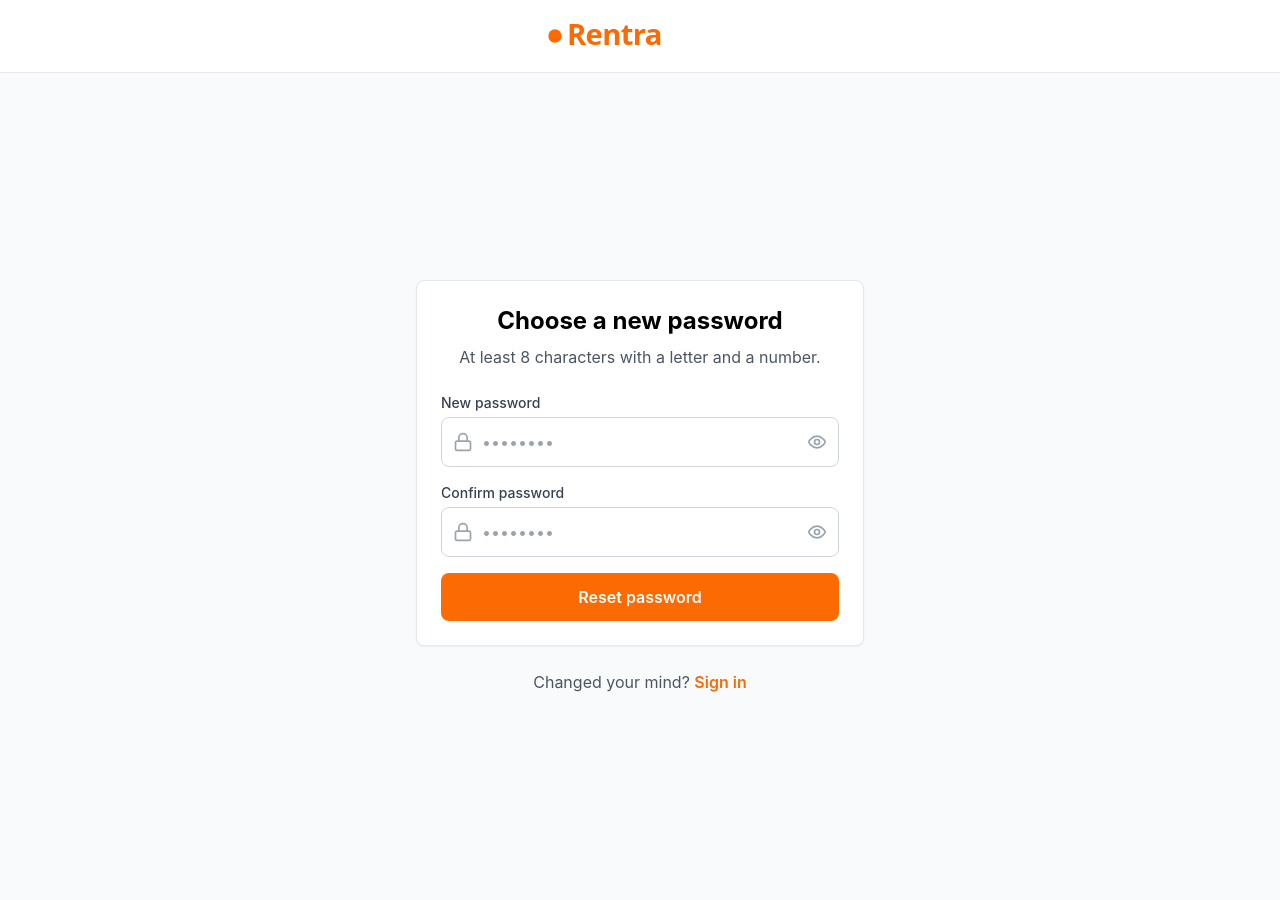
Scenario: ResetPasswordPage › resets with the token from the URL and offers sign in
In the password field labelled "New password": (640, 442) left=441, top=416, right=839, bottom=466, type "longenough1"
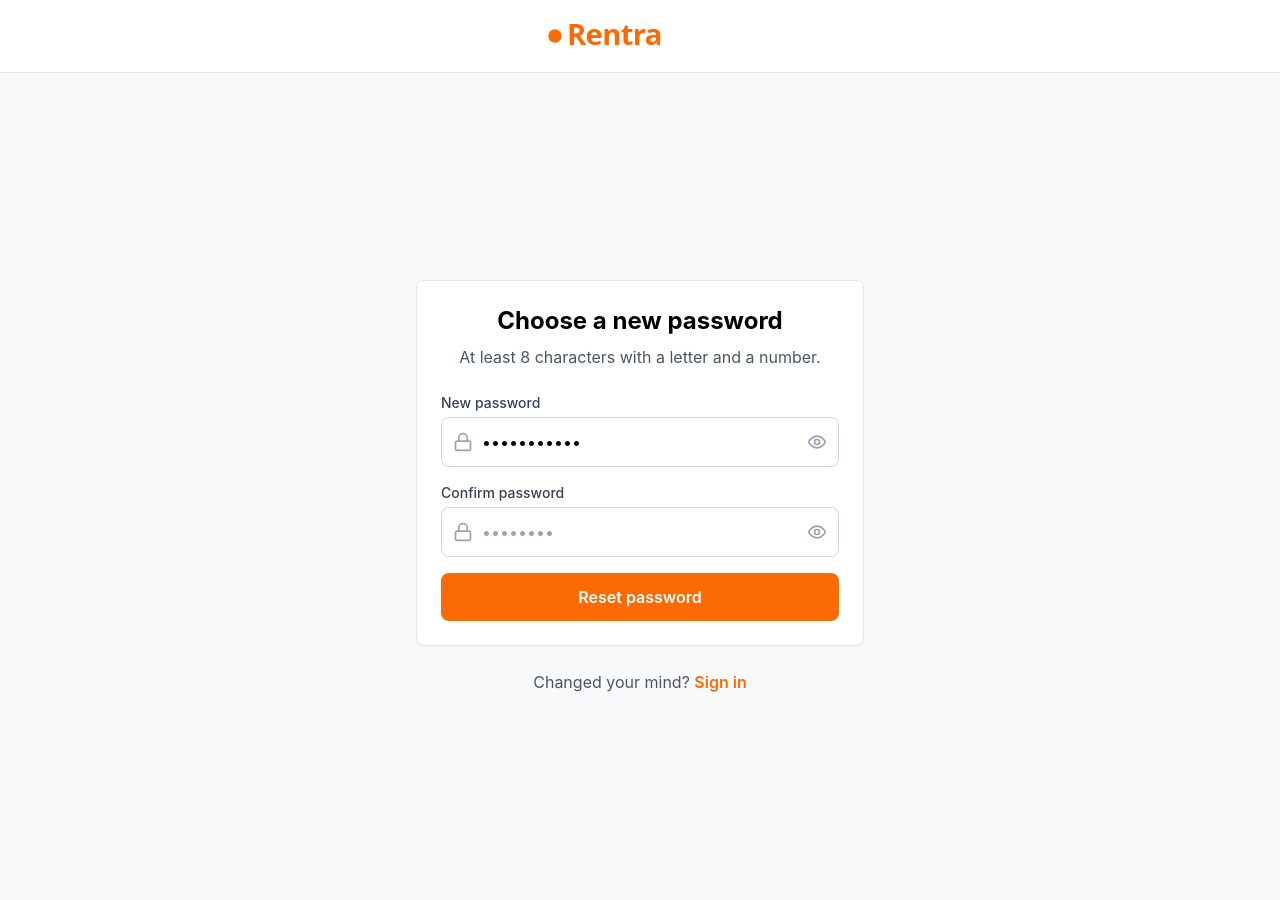
In the password field labelled "Confirm password": (640, 532) left=441, top=506, right=839, bottom=556, type "longenough1"
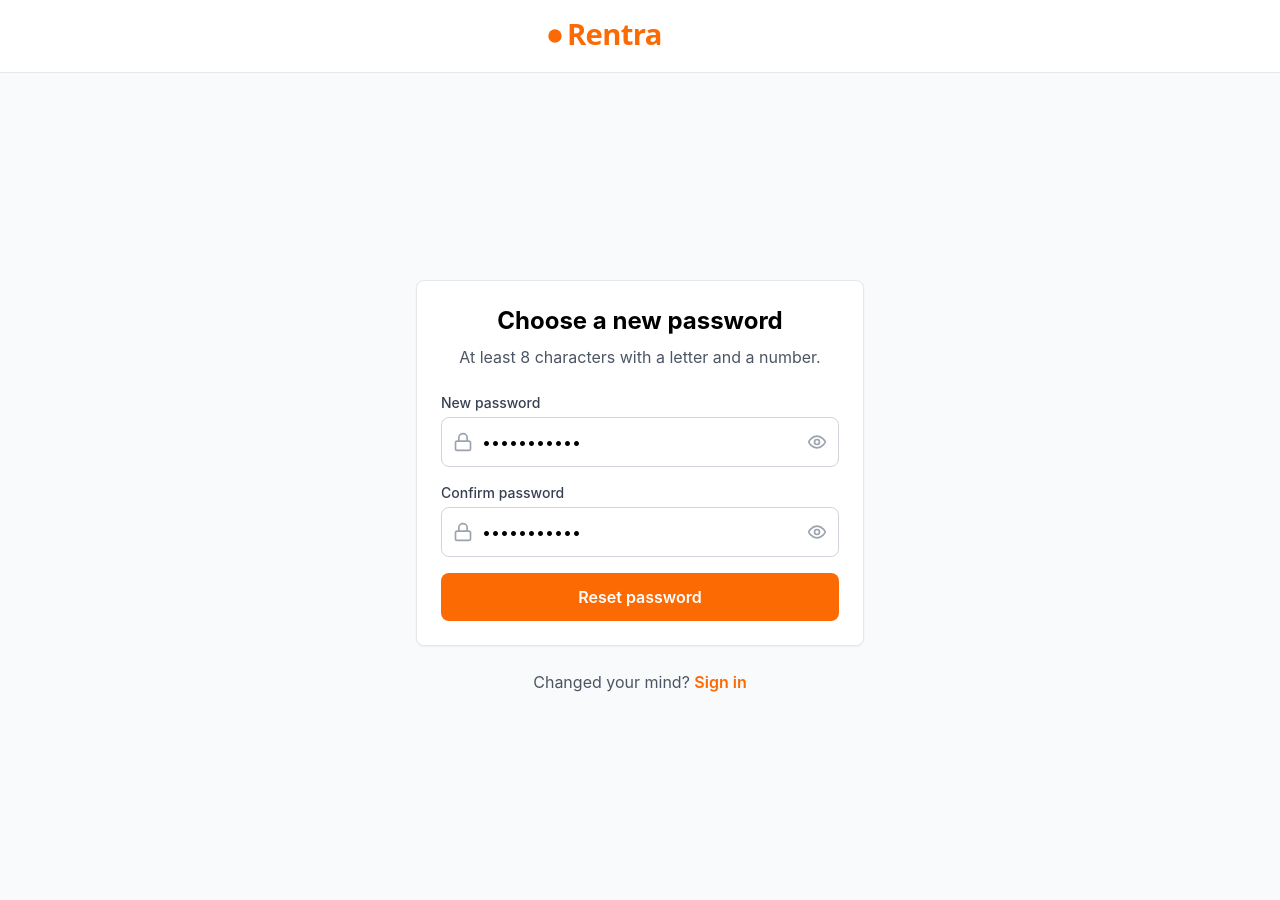
Click the button "Reset password": (640, 596) left=441, top=572, right=839, bottom=620
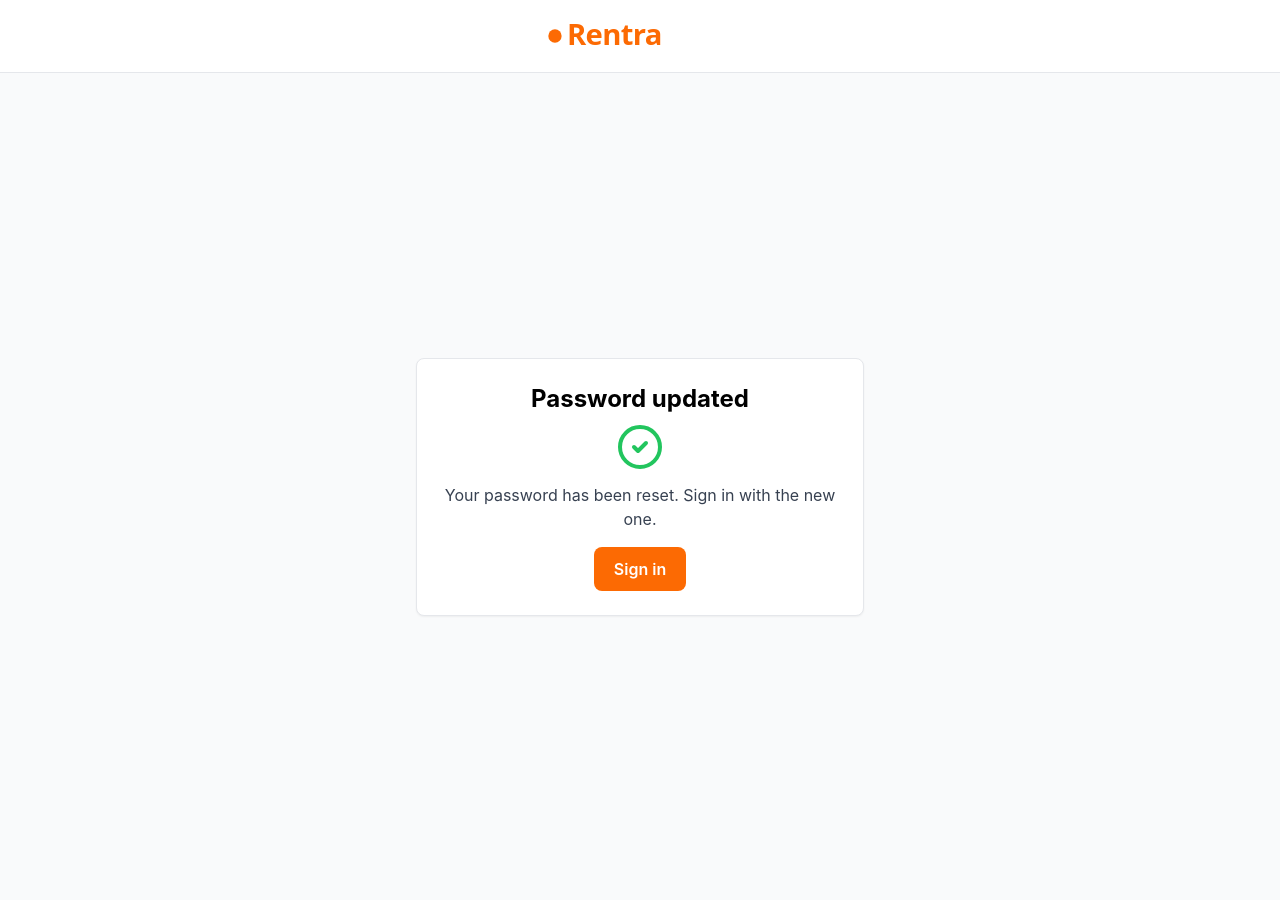
Now the heading "Password updated" is shown, box left=531, top=384, right=749, bottom=412
